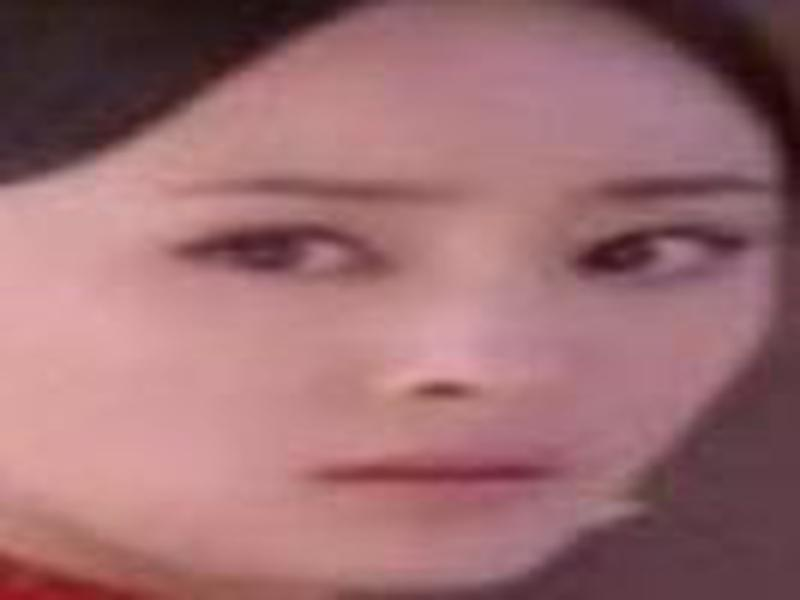without_mask: (49, 23, 780, 591)
